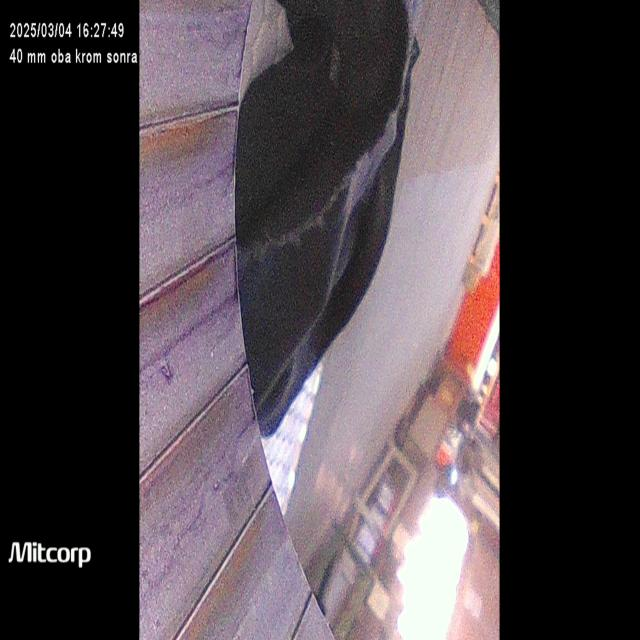hata_4.2: (155, 490, 273, 640), (135, 361, 234, 526), (140, 242, 221, 341), (140, 96, 223, 183)
